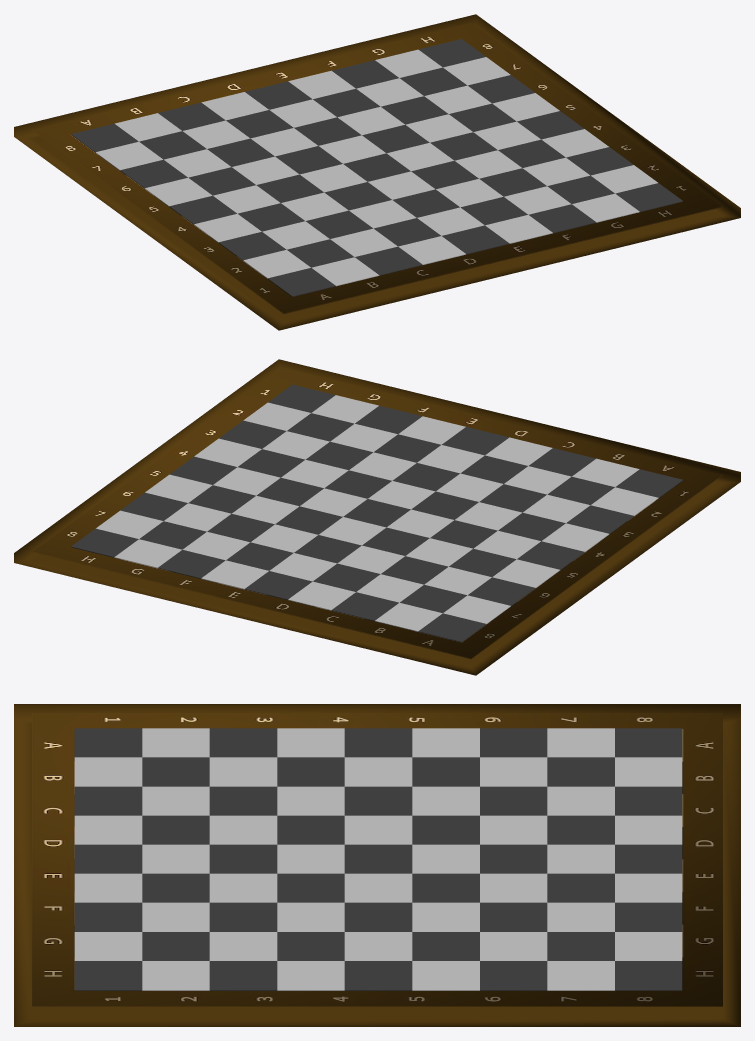
The model's file is Chessboard_subtract_object.glb.
The picture shows the model from 3 angles, top to bottom: view 1: azimuth 30°, elevation 25°; view 2: azimuth 150°, elevation 25°; view 3: azimuth 270°, elevation 25°; orthographic projection. The views are drawn at different scales.
Parts seen in each view (by area): view 1: Plane.289, Tile_R01_C01_Black, Tile_R01_C02_White, Tile_R01_C04_White, Tile_R01_C05_Black, Tile_R01_C06_White, Tile_R01_C08_White, Tile_R01_C03_Black, Tile_R01_C07_Black, Tile_R01_C09_Black, Tile_R02_C01_White, Tile_R06_C01_White (+70 smaller); view 2: Plane.289, Tile_R09_C01_Black, Tile_R09_C06_White, Tile_R09_C04_White, Tile_R09_C08_White, Tile_R09_C09_Black, Tile_R09_C02_White, Tile_R09_C03_Black, Tile_R09_C05_Black, Tile_R09_C07_Black, Tile_R04_C01_White, Tile_R08_C01_White (+70 smaller); view 3: Plane.289, Tile_R01_C02_White, Tile_R01_C09_Black, Tile_R03_C02_White, Tile_R03_C09_Black, Tile_R05_C02_White, Tile_R05_C09_Black, Tile_R01_C01_Black, Tile_R01_C03_Black, Tile_R01_C04_White, Tile_R01_C05_Black, Tile_R01_C06_White (+70 smaller).
Boxes of the visible parts, x1,y1,x2,y2 form: Plane.289: (14,14,740,330); Tile_R01_C01_Black: (268,268,335,296); Tile_R01_C02_White: (311,257,379,286); Tile_R01_C04_White: (398,236,465,264); Tile_R01_C05_Black: (442,225,509,254); Tile_R01_C06_White: (485,215,552,243); Tile_R01_C08_White: (572,193,639,222); Tile_R01_C03_Black: (355,246,422,275); Tile_R01_C07_Black: (528,204,596,233); Tile_R01_C09_Black: (615,183,683,211); Tile_R02_C01_White: (243,250,310,278); Tile_R06_C01_White: (144,178,212,206); Plane.289: (14,359,740,675); Tile_R09_C01_Black: (418,613,486,642); Tile_R09_C06_White: (201,560,268,589); Tile_R09_C04_White: (288,581,355,610); Tile_R09_C08_White: (114,539,181,568); Tile_R09_C09_Black: (71,528,138,557); Tile_R09_C02_White: (375,602,442,631); Tile_R09_C03_Black: (331,592,398,621); Tile_R09_C05_Black: (244,571,312,599); Tile_R09_C07_Black: (158,550,225,578); Tile_R04_C01_White: (542,523,609,552); Tile_R08_C01_White: (443,595,510,624); Plane.289: (14,704,740,1026); Tile_R01_C02_White: (74,757,142,786); Tile_R01_C09_Black: (74,961,142,990); Tile_R03_C02_White: (209,757,277,786); Tile_R03_C09_Black: (209,961,277,990); Tile_R05_C02_White: (344,757,412,786); Tile_R05_C09_Black: (344,961,412,990); Tile_R01_C01_Black: (74,728,142,757); Tile_R01_C03_Black: (74,786,142,815); Tile_R01_C04_White: (74,815,142,844); Tile_R01_C05_Black: (74,844,142,873); Tile_R01_C06_White: (74,873,142,902).
Size of the model in its own units: 31.73 by 0.6439 by 31.5.
Materials: 4 (1 with a texture image).
